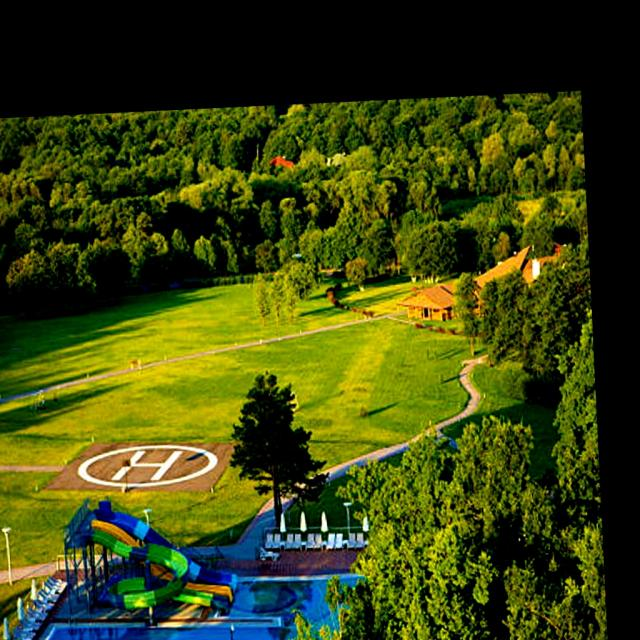helipad: (72, 440, 220, 490)
